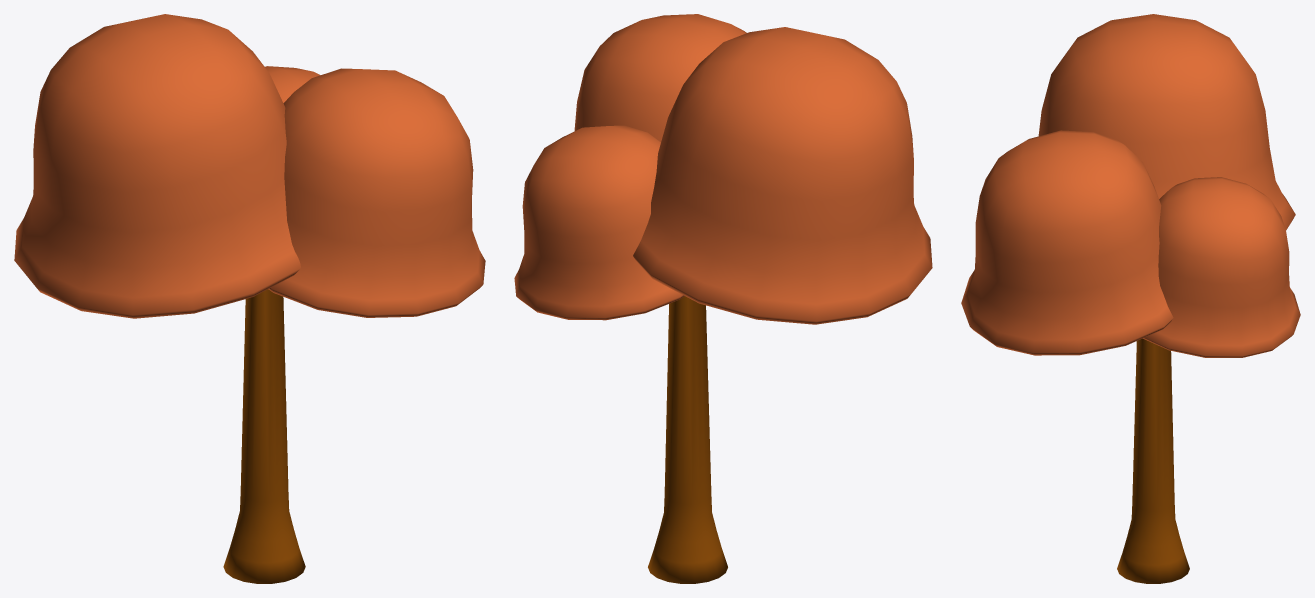
The model's file is WillowTreeOrange.gltf.
3 views of the same model, side by side, from view 1: azimuth 30°, elevation 25°; view 2: azimuth 150°, elevation 25°; view 3: azimuth 270°, elevation 25° (orthographic). The views are drawn at different scales.
Visible parts, largest first — view 1: Cylinder.006; view 2: Cylinder.006; view 3: Cylinder.006.
Part boxes in pixels (x1,y1,x2,y2): Cylinder.006: [14, 14, 485, 583]; Cylinder.006: [514, 14, 932, 583]; Cylinder.006: [961, 14, 1300, 583].
Bounding box in the file's own units: 10.94 × 15.01 × 9.3.
